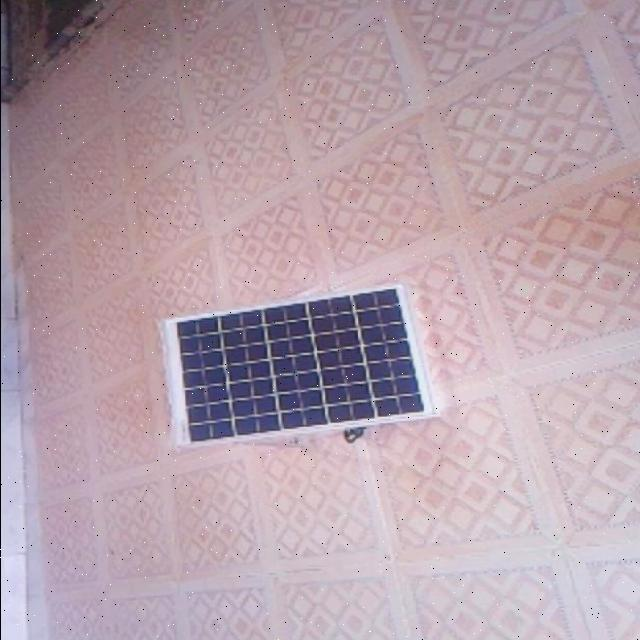Normal Solar Panel: (158, 287, 438, 447)
